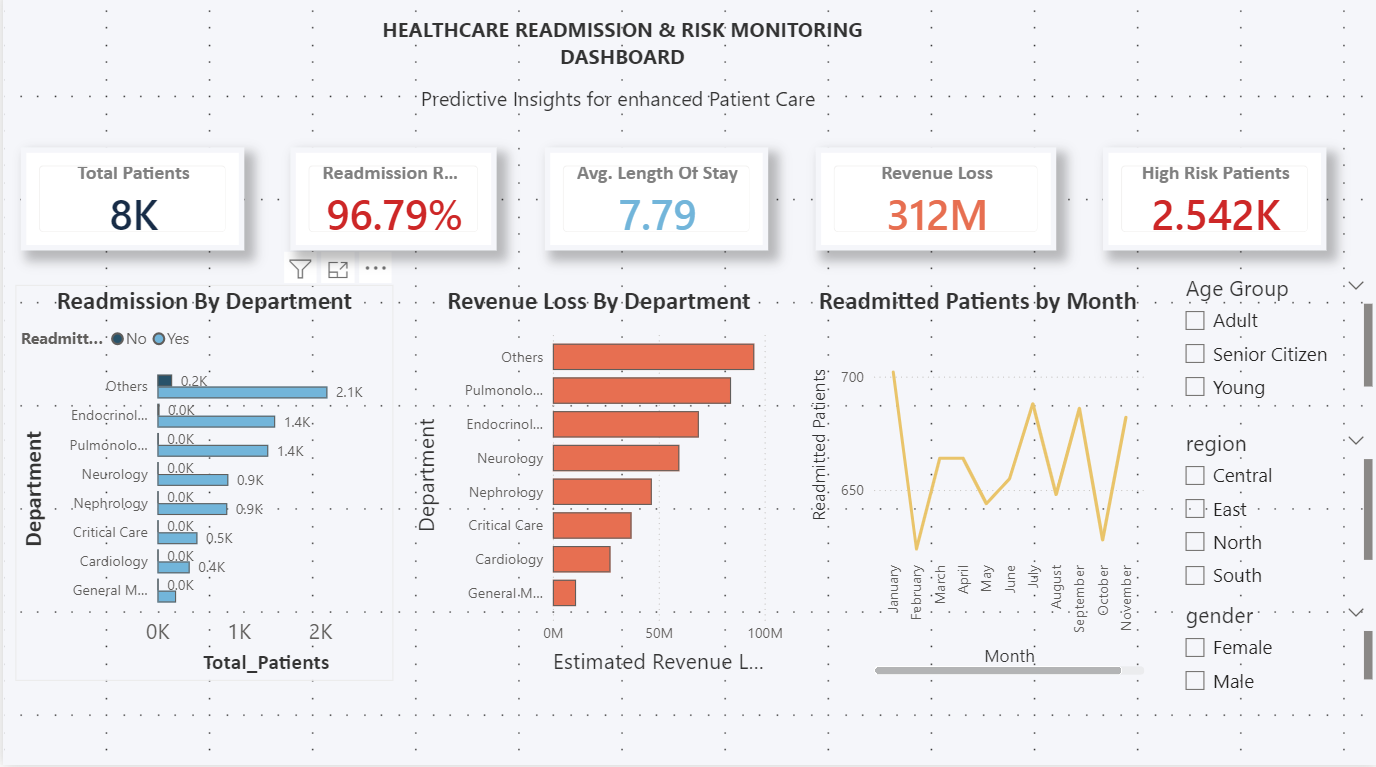

Layout of this report page (visuals, bound fields, positions):
{"tool":"powerbi","page":{"name":"Executive Overview","canvas":[1280,720],"ordinal":0},"visuals":[{"type":"clusteredBarChart","title":"Readmission By Department","fields":{"Category":["hospital_readmission_dataset.Department"],"Y":["CountNonNull(hospital_readmission_dataset.patient_id)"],"Series":["hospital_readmission_dataset.Readmitted Patients"]},"box":[11.3,273.1,352,368],"z":0},{"type":"cardVisual","fields":{"Data":["Count(hospital_readmission_dataset.patient_id)"]},"box":[16,144,208,96],"z":3000},{"type":"cardVisual","fields":{"Data":["hospital_readmission_dataset.Readmission Rate %"]},"box":[268,144,192,96],"z":4000},{"type":"cardVisual","fields":{"Data":["Avg(hospital_readmission_dataset.length_of_stay)"]},"box":[504,144,208,96],"z":5000},{"type":"cardVisual","fields":{"Data":["Sum(hospital_readmission_dataset.Revenue Loss)"]},"box":[756,144,224,96],"z":6000},{"type":"cardVisual","fields":{"Data":["CountNonNull(hospital_readmission_dataset.Risk Category)"]},"box":[1024,144,208,96],"z":7000},{"type":"clusteredBarChart","title":"Revenue Loss By Department","fields":{"Category":["hospital_readmission_dataset.Department"],"Y":["hospital_readmission_dataset.Estimated Revenue Loss"]},"box":[379.3,273.1,352,368],"z":8000},{"type":"textbox","box":[336,16,480,64],"z":10000},{"type":"slicer","fields":{"Values":["hospital_readmission_dataset.Age Group"]},"box":[1088,256,192,128],"z":11000},{"type":"slicer","fields":{"Values":["hospital_readmission_dataset.region"]},"box":[1088,400,192,160],"z":13000},{"type":"slicer","fields":{"Values":["hospital_readmission_dataset.gender"]},"box":[1088,560,192,96],"z":14000},{"type":"textbox","box":[384,80,384,48],"z":15000},{"type":"lineChart","fields":{"Category":["hospital_readmission_dataset.admission_date.Variation.Date Hierarchy.Month"],"Y":["CountNonNull(hospital_readmission_dataset.Readmitted Patients)"]},"box":[747.3,273.1,320,368],"z":15001}]}

Visuals, with their boxes in screenshot pixels (x1, y1, x2, y2), scaled from the page's 1280x720 canvas onto the 1376x767 screenshot:
"Readmission By Department" clusteredBarChart: BBox(12, 291, 391, 683)
cardVisual - Count(hospital_readmission_dataset.patient_id): BBox(17, 153, 241, 256)
cardVisual - hospital_readmission_dataset.Readmission Rate %: BBox(288, 153, 494, 256)
cardVisual - Avg(hospital_readmission_dataset.length_of_stay): BBox(542, 153, 765, 256)
cardVisual - Sum(hospital_readmission_dataset.Revenue Loss): BBox(813, 153, 1054, 256)
cardVisual - CountNonNull(hospital_readmission_dataset.Risk Category): BBox(1101, 153, 1324, 256)
"Revenue Loss By Department" clusteredBarChart: BBox(408, 291, 786, 683)
textbox: BBox(361, 17, 877, 85)
slicer - hospital_readmission_dataset.Age Group: BBox(1170, 273, 1375, 409)
slicer - hospital_readmission_dataset.region: BBox(1170, 426, 1375, 597)
slicer - hospital_readmission_dataset.gender: BBox(1170, 597, 1375, 699)
textbox: BBox(413, 85, 826, 136)
lineChart - hospital_readmission_dataset.admission_date.Variation.Date Hierarchy.Month x CountNonNull(hospital_readmission_dataset.Readmitted Patients): BBox(803, 291, 1147, 683)
